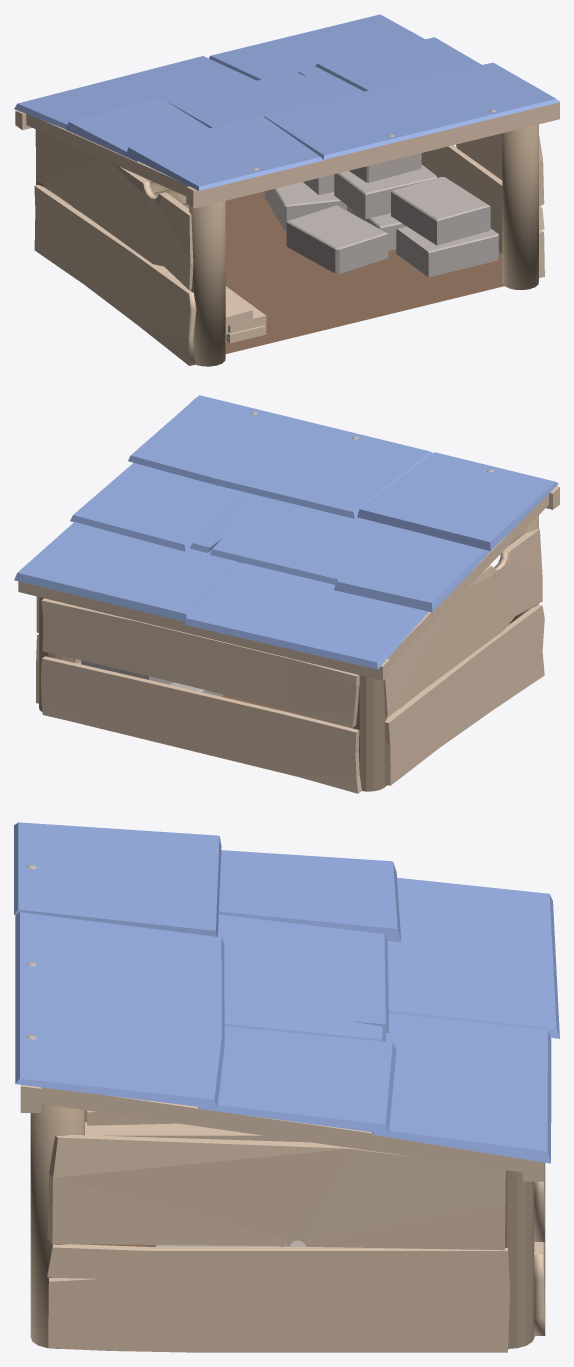
Rendered from bld_BasicStorage.fbx.
3 views of the same model, one above another, from view 1: azimuth 30°, elevation 25°; view 2: azimuth 150°, elevation 25°; view 3: azimuth 270°, elevation 25° (orthographic). The views are drawn at different scales.
Parts seen in each view (by area): view 1: Cube.002; view 2: Cube.002; view 3: Cube.002.
Boxes of the visible parts, <box> form: Cube.002: <box>14,14,559,366</box>; Cube.002: <box>14,395,559,793</box>; Cube.002: <box>14,822,559,1352</box>.
Size of the model in its own units: 410 by 200 by 358.
